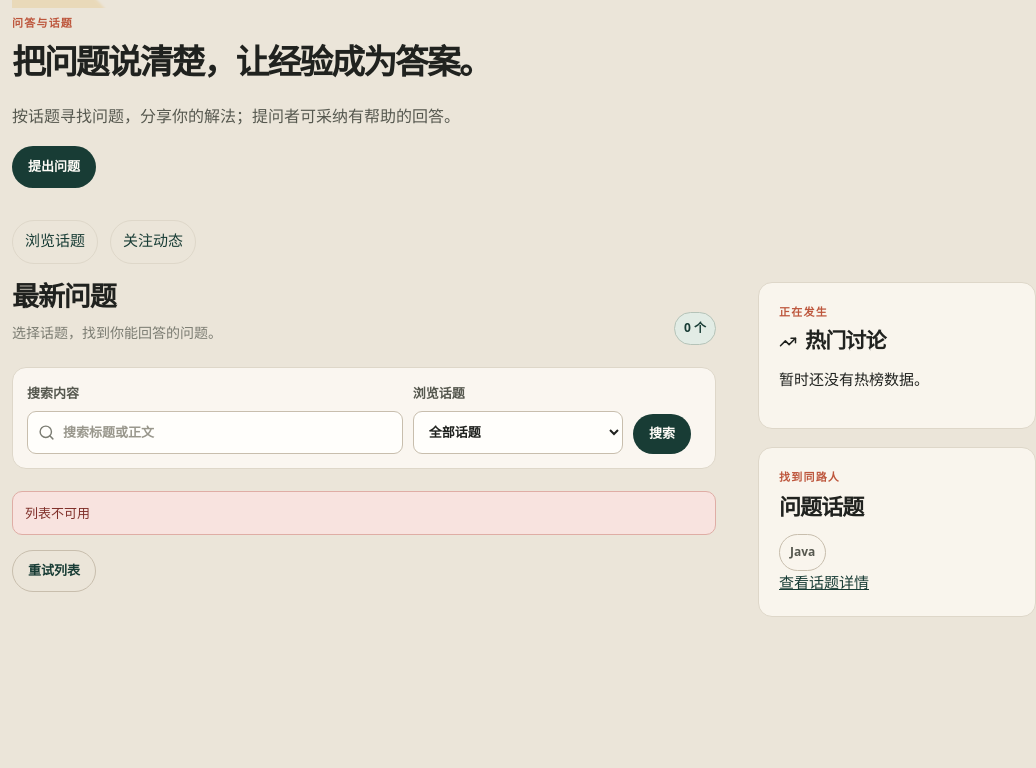
Test: 问答列表 › shows errors rather than an empty-result claim and retries only reads
The width and height of the screenshot is (1036, 768).
Expected: the text "列表不可用" is shown, [12,491,716,535]
Expected: the text "还没有符合条件" is not shown
Step 1. Click the button "重试列表" → (54, 571), box [12,550,96,592]
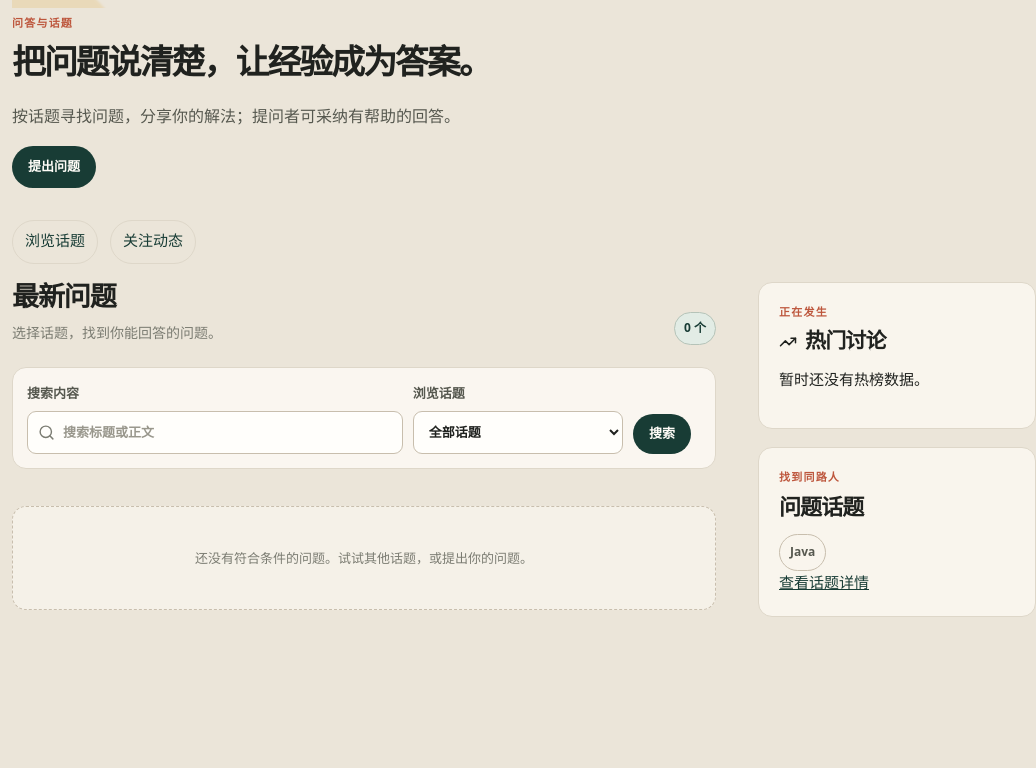
Expected: the text "还没有符合条件的问题。试试其他话题，或提出你的问题。" is shown, [12,506,716,610]
